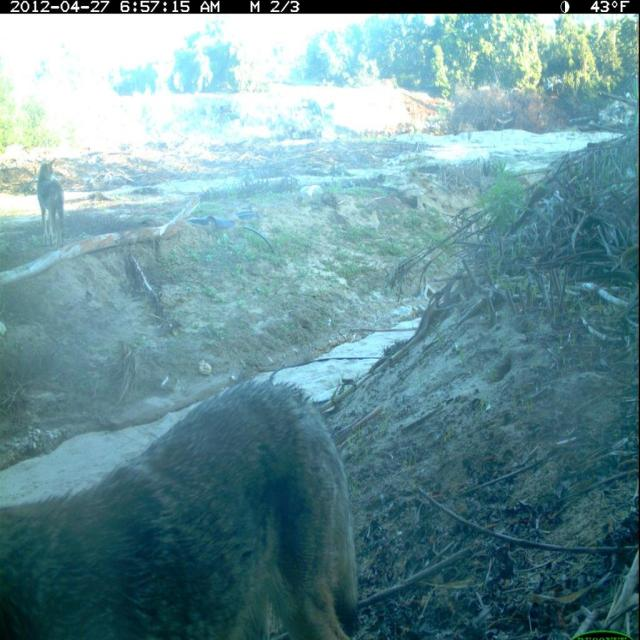coyote: (2, 367, 365, 638), (36, 155, 71, 245)
